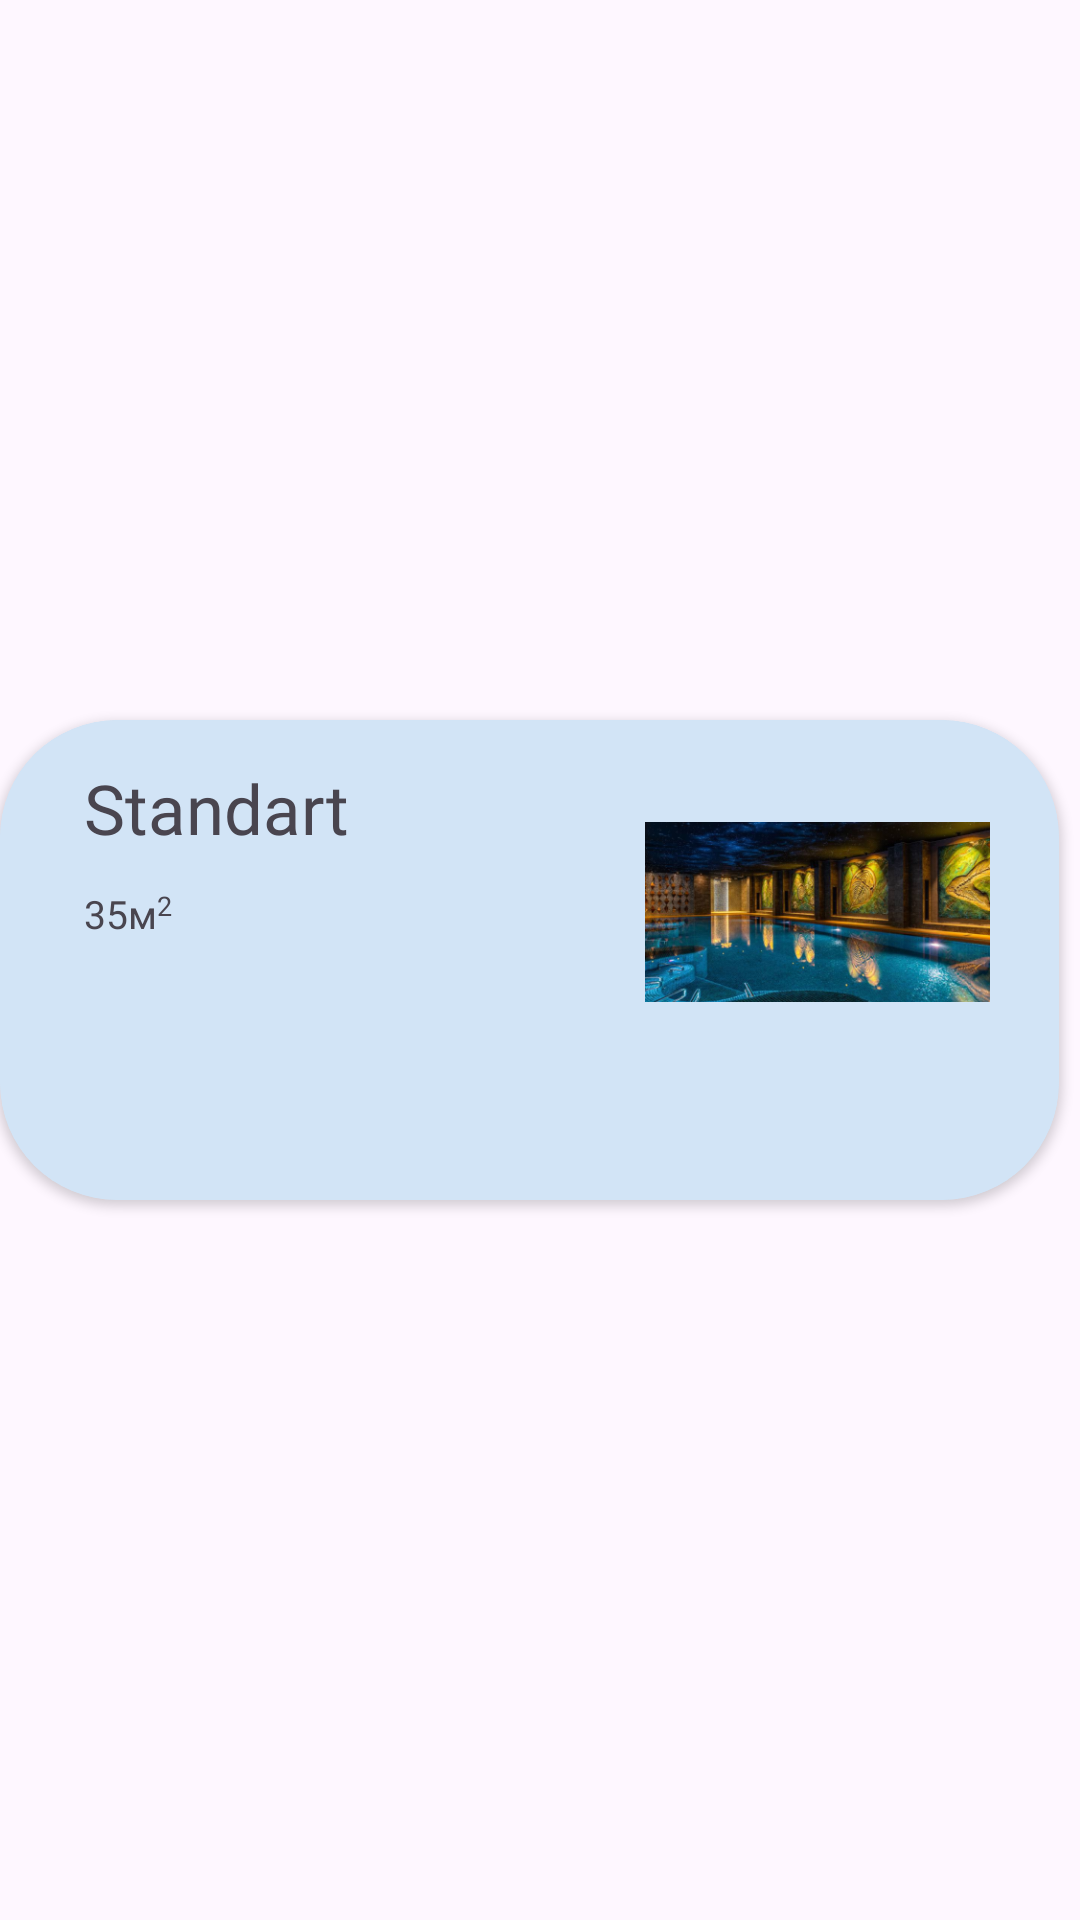

Screen size 1080px x 1920px. Icon name, then its box in pixels as (x1, y1, x2, y2):
init picture: (645, 822, 990, 1002)
